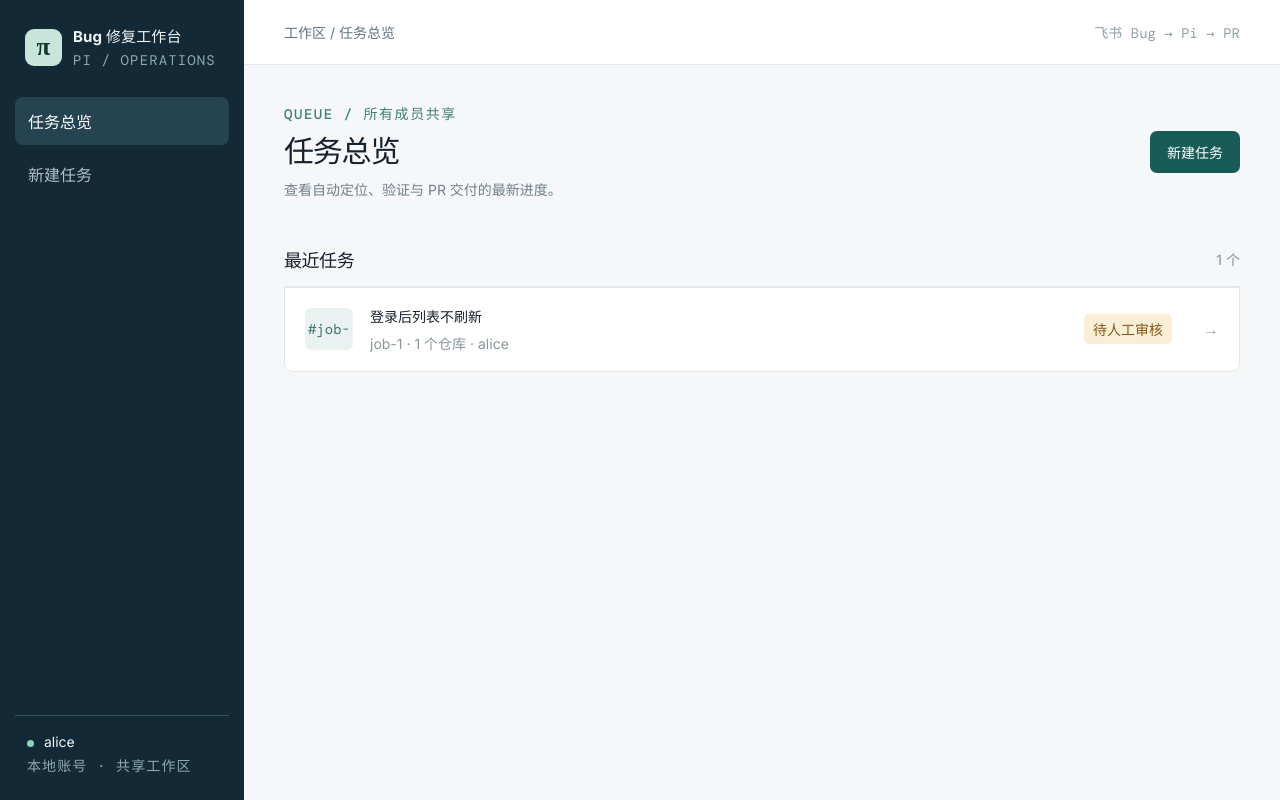
Test: Bug 工作台 › 发起人不能审核自己的候选
Click the button "#job- 登录后列表不刷新 job-1 · 1 个仓库 · alice 待人工审核 →".
click(329, 329)  # box [285,288,1239,371]
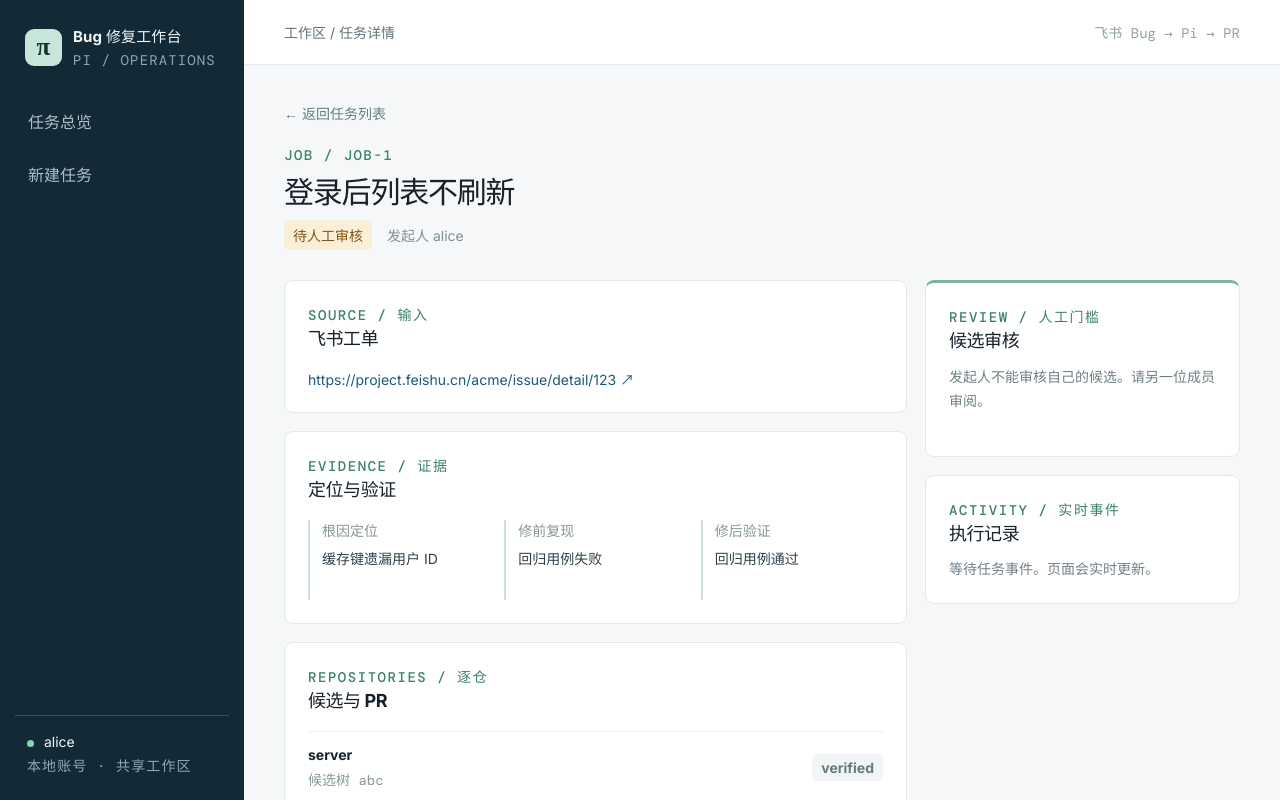
Expected: the text "发起人不能审核自己的候选。请另一位成员审阅。" is shown, [949,365,1216,413]
